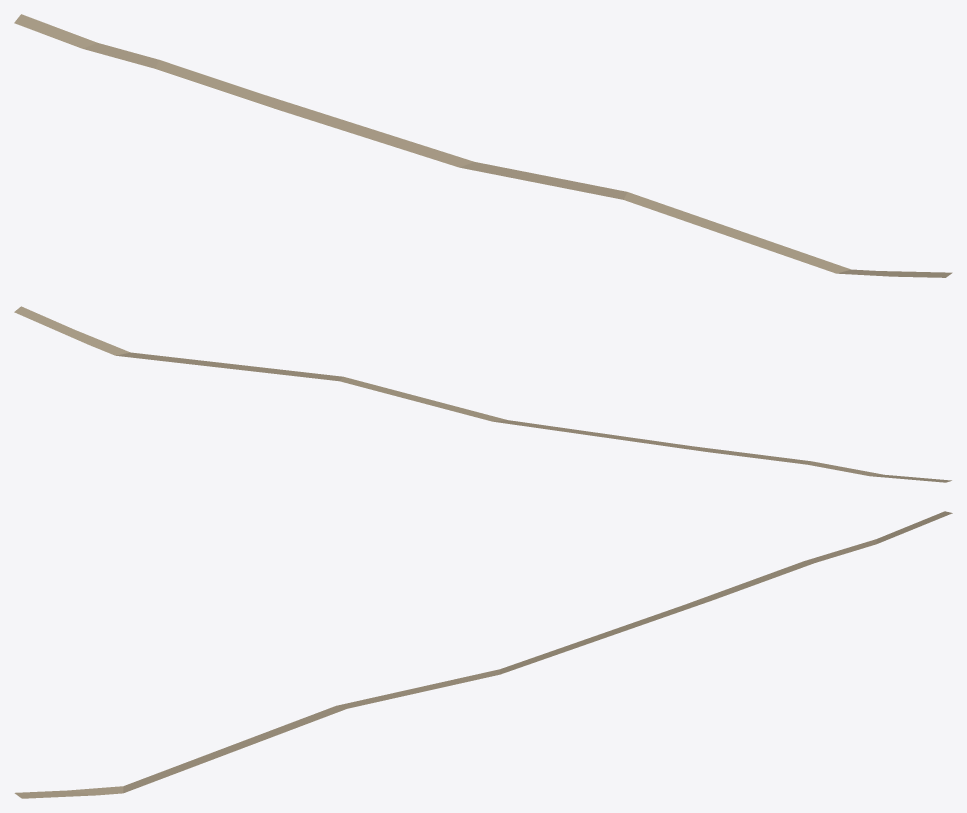
Rendered from farm_-7_12_track.glb.
3 renders of one model, top to bottom at view 1: azimuth 30°, elevation 25°; view 2: azimuth 210°, elevation 25°; view 3: azimuth 270°, elevation 25°, orthographic. The views are drawn at different scales.
Parts seen in each view (by area): view 1: geometry_0; view 2: geometry_0; view 3: geometry_0.
Part boxes in pixels (x1,y1,x2,y2): geometry_0: (14,14,952,277); geometry_0: (14,306,951,482); geometry_0: (14,511,952,798).
Bounding box in the file's own units: 124 × 15.59 × 199.
